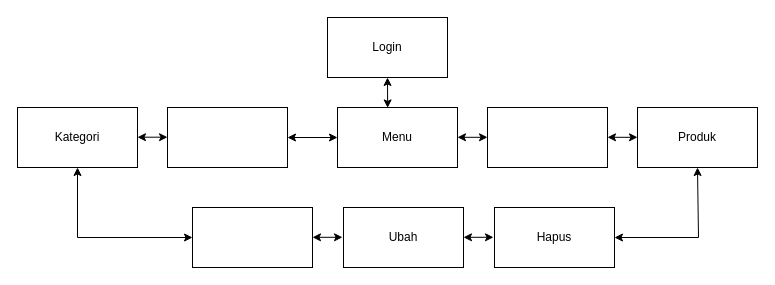
The diagram is 775 pixels wide and 285 high, and some of its shapes have lost their labels. The shapes that lost their labels are listed below. From the top down, each one's centre as x and y in pixels, then its label:
At pixel 227 137: "Pengguna".
At pixel 547 137: "Rekening".
At pixel 252 237: "Tambah".
